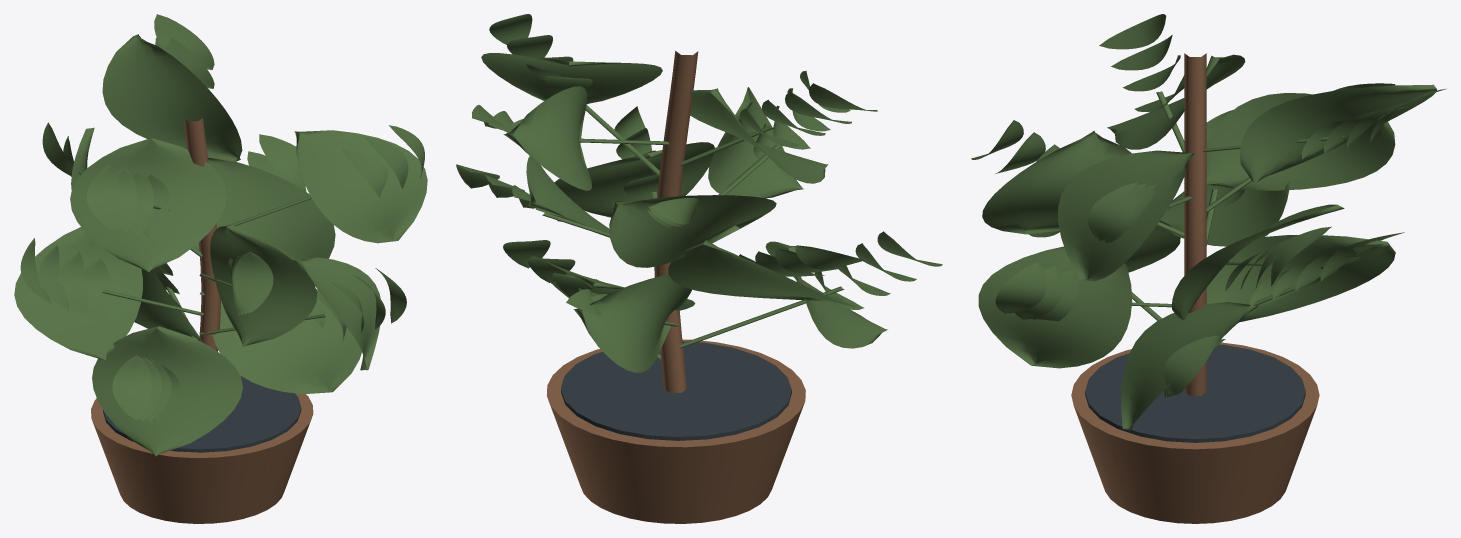
File: plant-14-1.glb
3 renders of one model, left to right at view 1: azimuth 30°, elevation 25°; view 2: azimuth 150°, elevation 25°; view 3: azimuth 270°, elevation 25°, orthographic. The views are drawn at different scales.
Parts seen in each view (by area): view 1: part (×36); view 2: part (×26); view 3: part (×32).
Boxes of the visible parts, x1,y1,x2,y2 form: part (×36): (14,14,427,523); part (×26): (456,14,887,523); part (×32): (971,14,1436,523).
Size of the model in its own units: 1 by 1 by 1.
